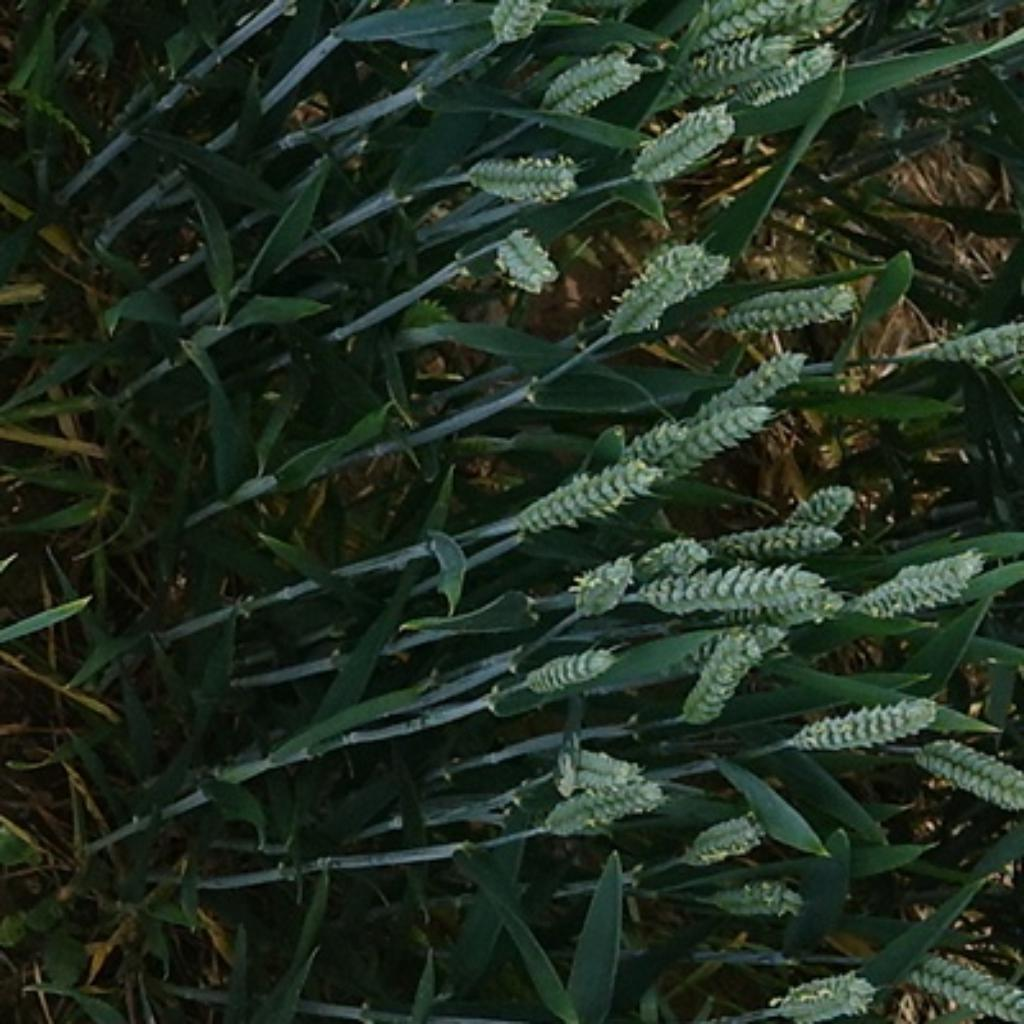0-0: (614, 353, 811, 481), (601, 227, 729, 335), (506, 448, 663, 529), (670, 616, 780, 719), (847, 542, 998, 614), (775, 691, 944, 752), (629, 97, 742, 184), (719, 271, 867, 335), (683, 35, 801, 115), (750, 473, 867, 550), (642, 558, 819, 604), (545, 775, 670, 839), (458, 145, 588, 204), (924, 734, 1021, 808), (535, 46, 642, 112), (770, 962, 883, 1024), (716, 0, 847, 51), (517, 637, 622, 698), (903, 322, 1024, 367), (747, 43, 842, 99), (683, 801, 768, 862), (486, 222, 560, 291), (709, 870, 798, 924), (547, 747, 655, 791), (716, 524, 847, 560), (565, 552, 640, 614), (476, 0, 562, 46), (624, 540, 709, 583), (724, 599, 852, 627), (403, 292, 463, 342)
